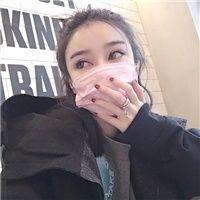OK: (69, 40, 137, 108)
